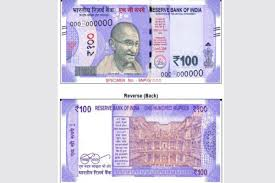hundred: (69, 17, 209, 67)
